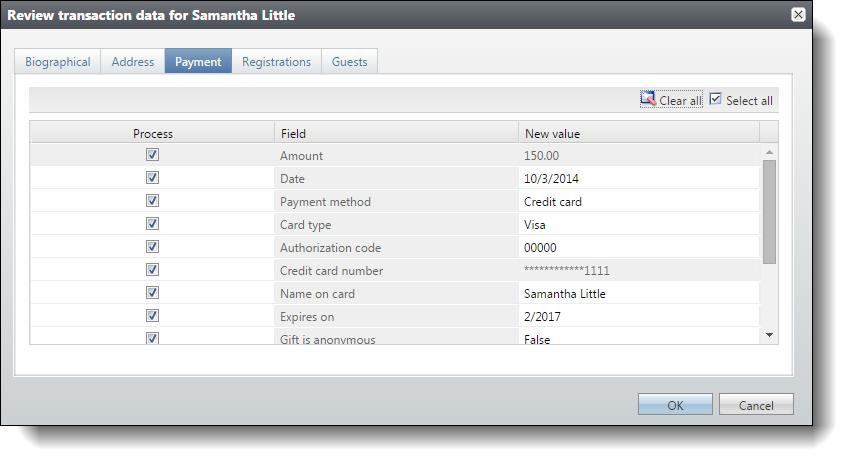button: (6, 44, 102, 76), (161, 42, 237, 79)
checkbox: (139, 144, 167, 345)
textbox: (516, 258, 649, 281)
